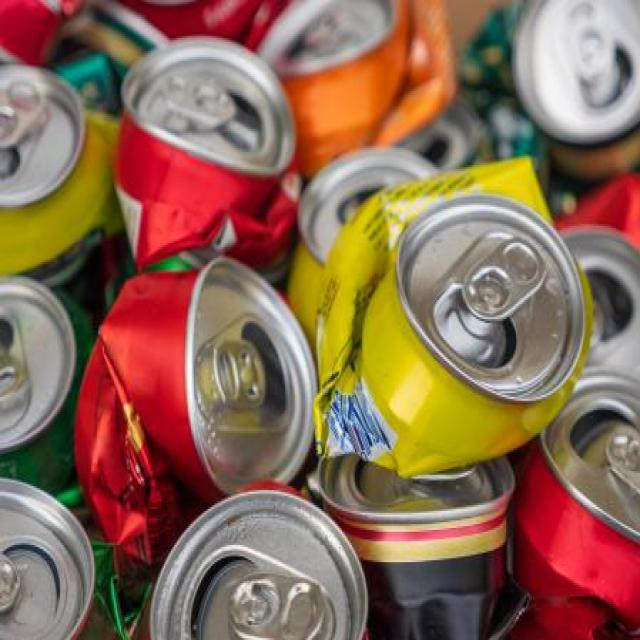Lata: (306, 145, 590, 472), (73, 252, 323, 571), (110, 36, 298, 268), (136, 492, 370, 640), (526, 399, 640, 640), (0, 55, 111, 269), (509, 0, 640, 158), (0, 469, 100, 640)
